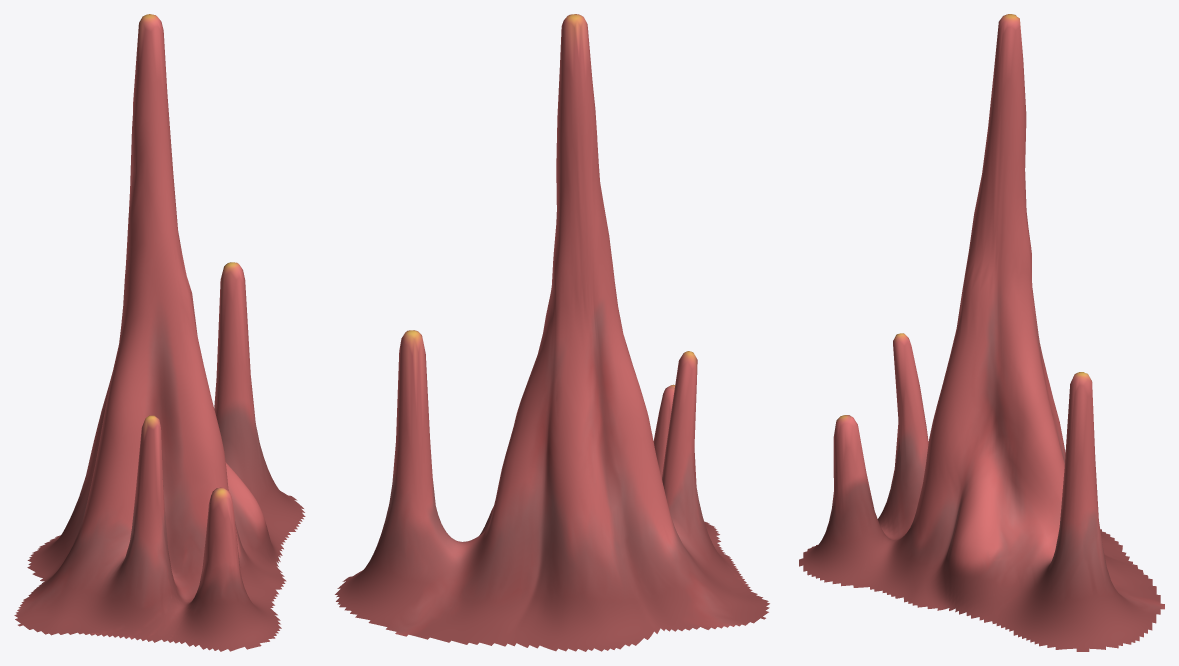
Rendered from cave_stalactit.fbx.
The picture shows the model from 3 angles, left to right: view 1: azimuth 30°, elevation 25°; view 2: azimuth 150°, elevation 25°; view 3: azimuth 270°, elevation 25°; orthographic projection. The views are drawn at different scales.
Parts seen in each view (by area): view 1: stalactit; view 2: stalactit; view 3: stalactit.
Part boxes in pixels (left/top/right/bottom): stalactit: left=14, top=14, right=305, bottom=651; stalactit: left=335, top=14, right=769, bottom=651; stalactit: left=799, top=14, right=1164, bottom=651.
Size of the model in its own units: 92.02 by 144 by 87.07.
1 material, 1 textured.
